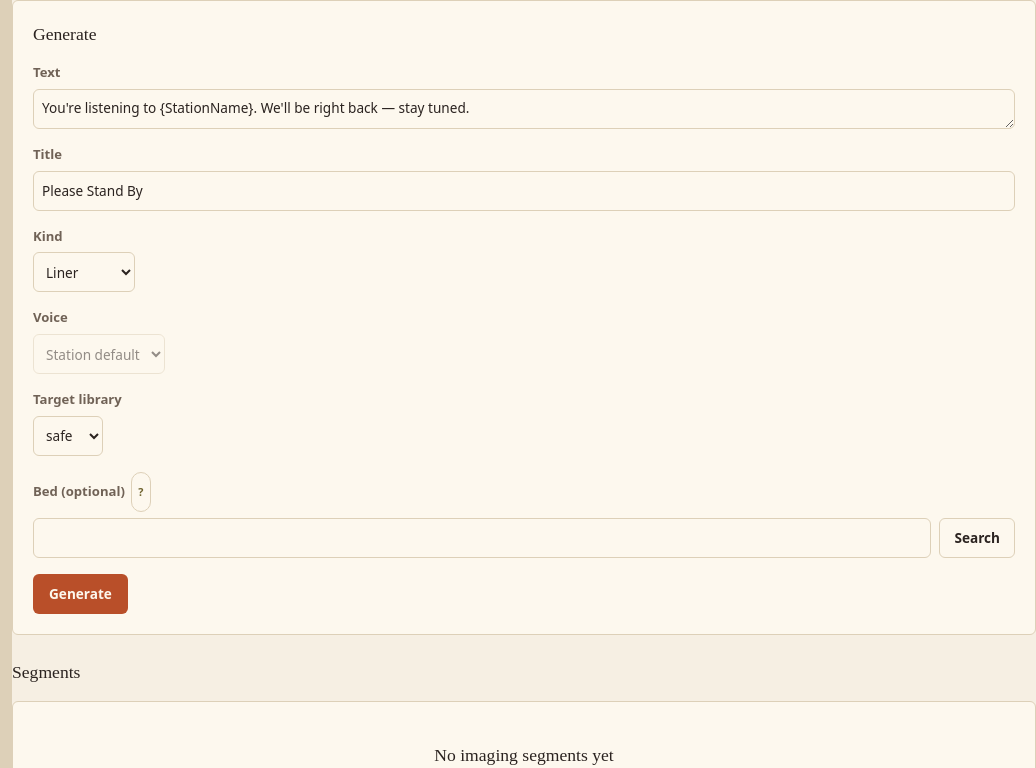
Test: Feature: Station sounds content kinds › Scenario: the Generate form carries a kind picker › disables the picker while a render is pending
Click the button "Generate" at {"x": 80, "y": 594}, box [33,574,128,614]
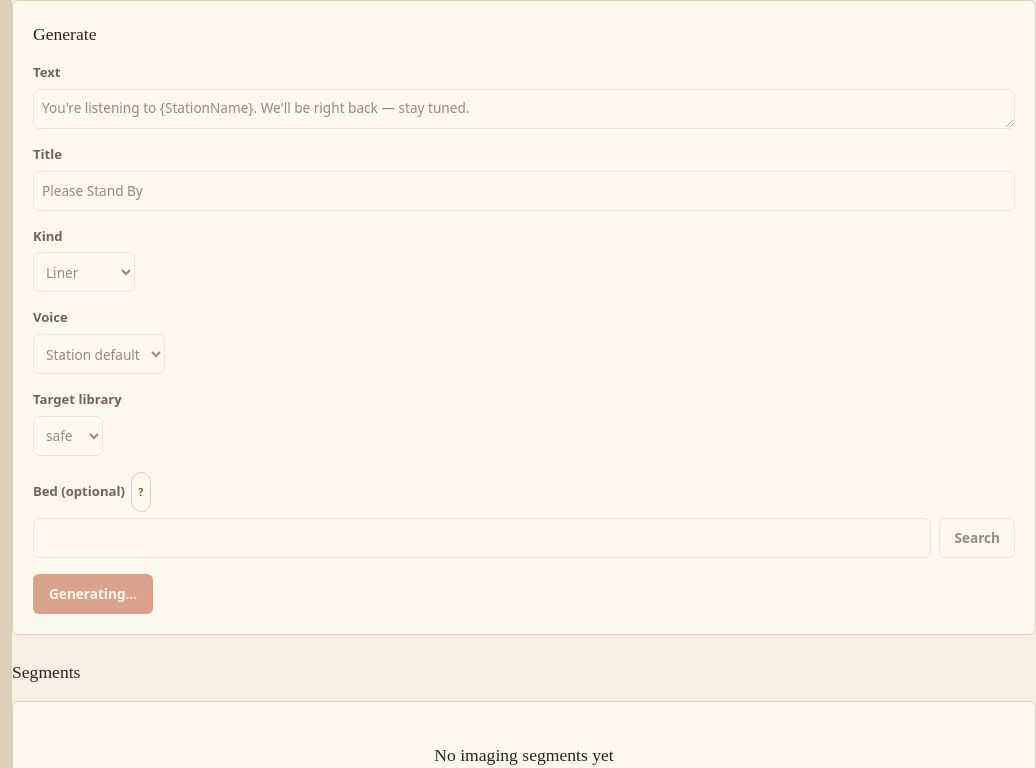
Expected: the dropdown labelled "Kind" is disabled, [33,252,135,292]
